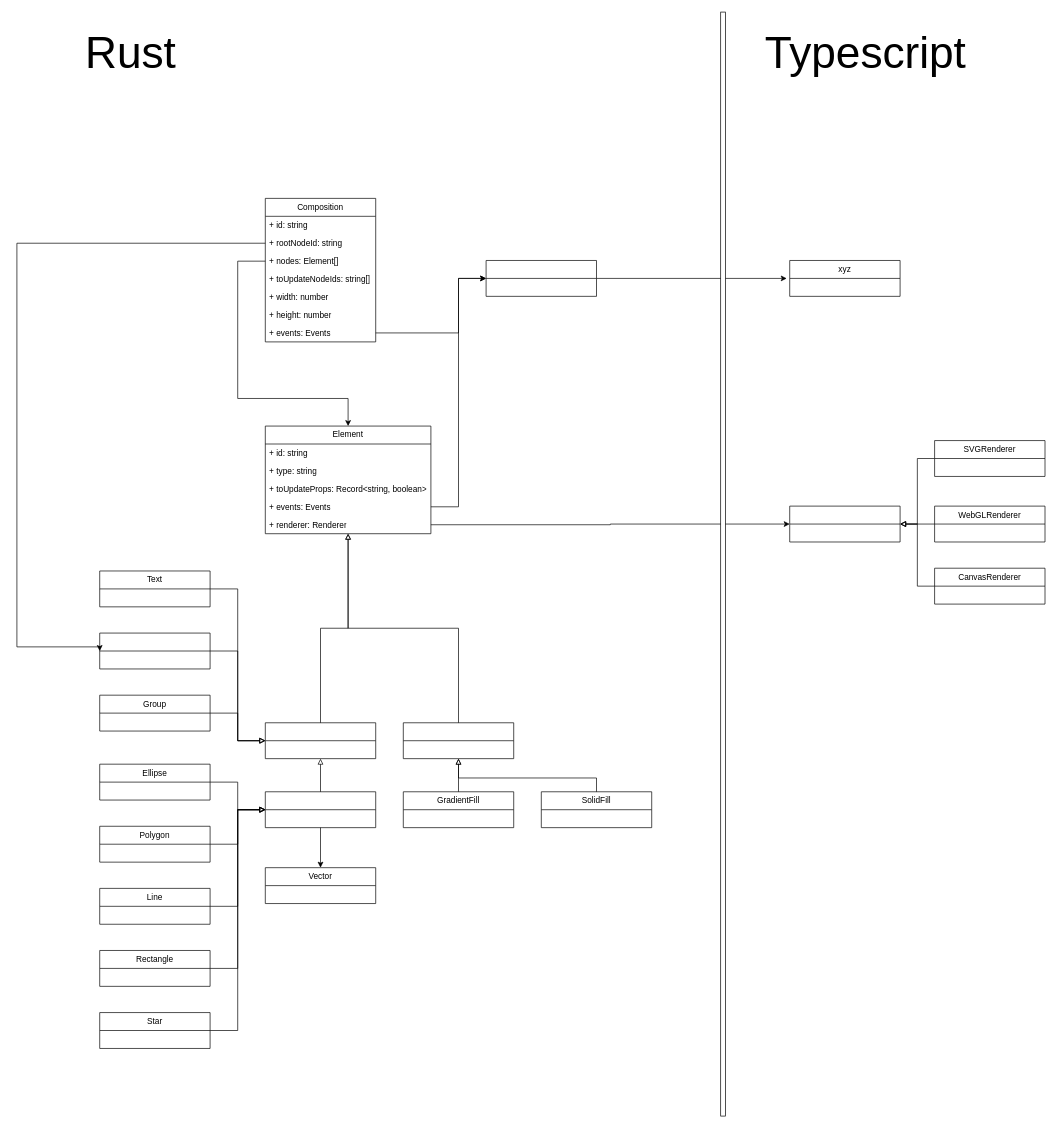
Some shapes in this 1057 by 1128 pixel diagram are drawn without their labels. The centre of each missing label's shape, as x and y in pixels:
"Events" goes at point (541, 278).
"Fill" goes at point (458, 740).
"Frame" goes at point (154, 650).
"Path" goes at point (320, 809).
"Renderer" goes at point (844, 523).
"Shape" goes at point (320, 740).
